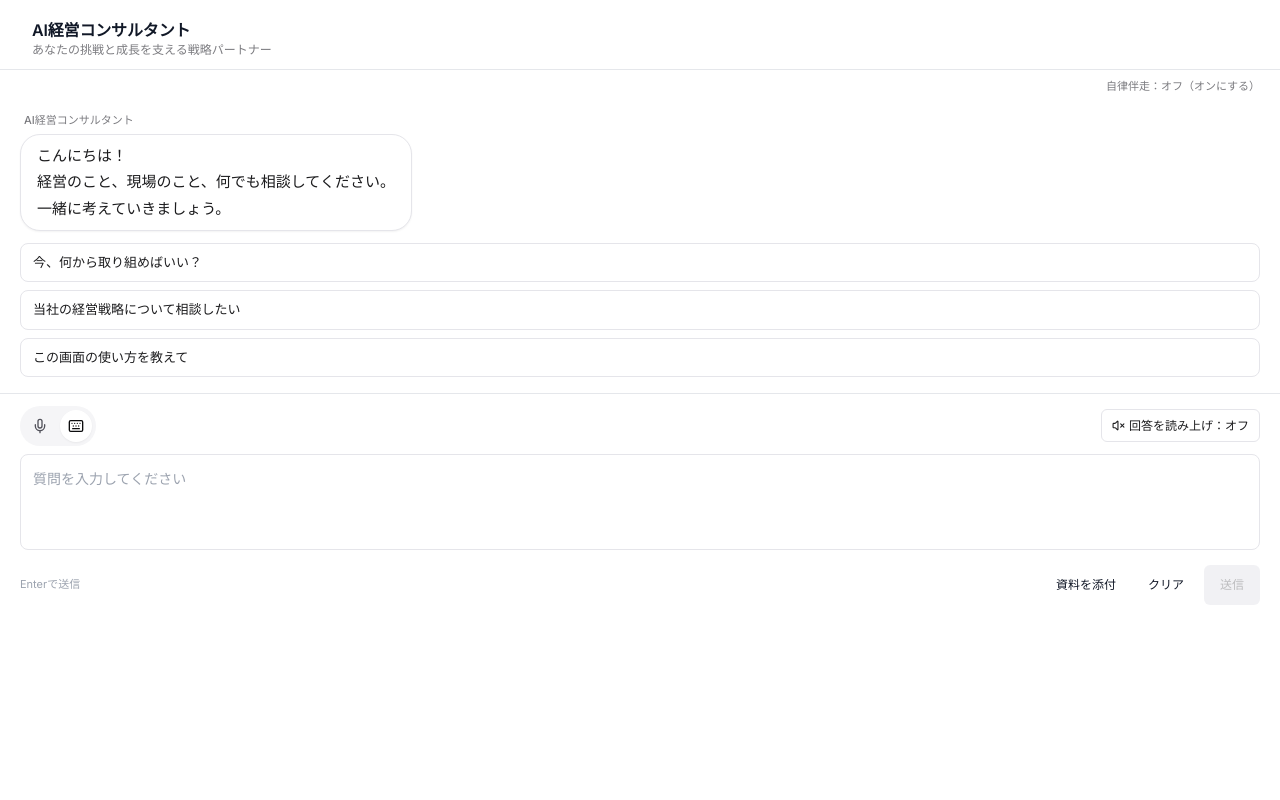
Test: 企業切替と送信ゲート › 企業切替中（画面は B、ストアは A）に送信しても API を呼ばず、案内と入力の保持を行う
Type "質問" into the text box at [640, 502], box top-left (20, 454), bottom-right (1260, 550)
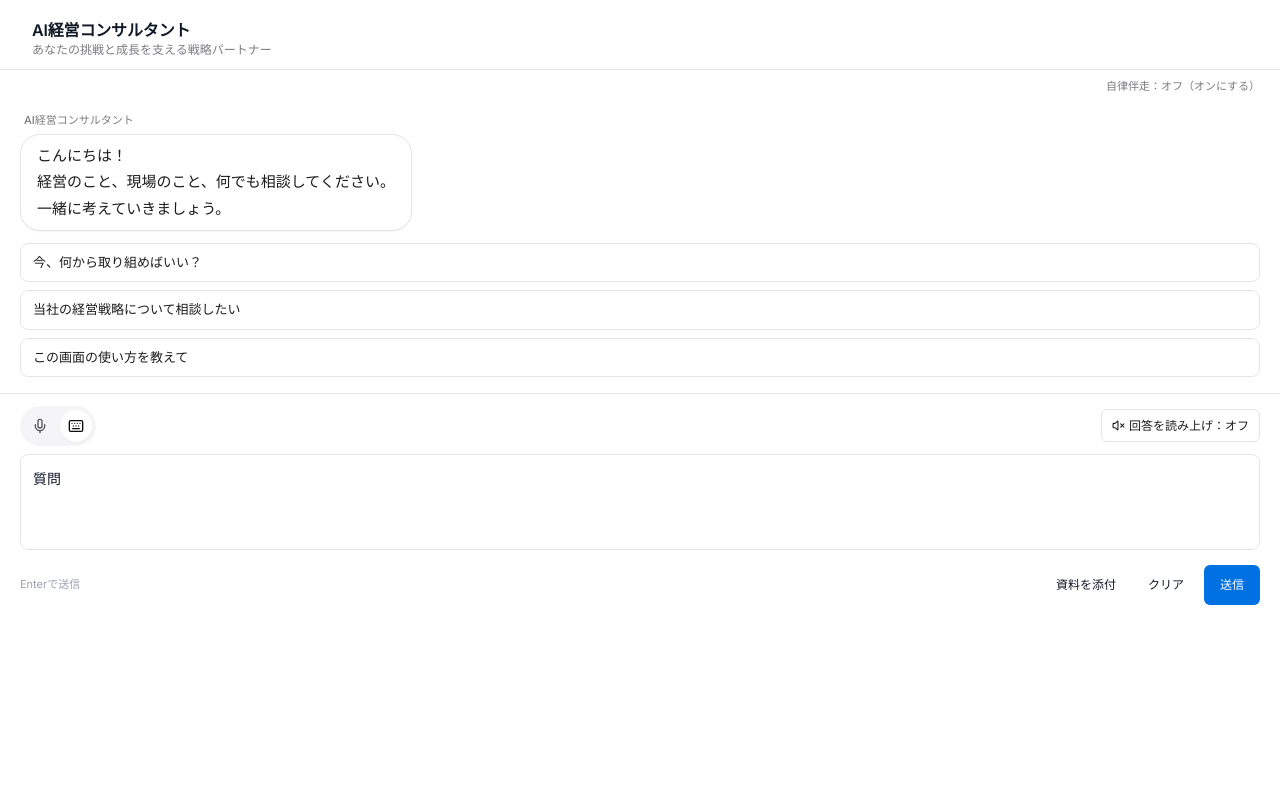
Result: the button "送信" is enabled
Click the button "送信" at [1232, 585], box top-left (1204, 565), bottom-right (1260, 605)
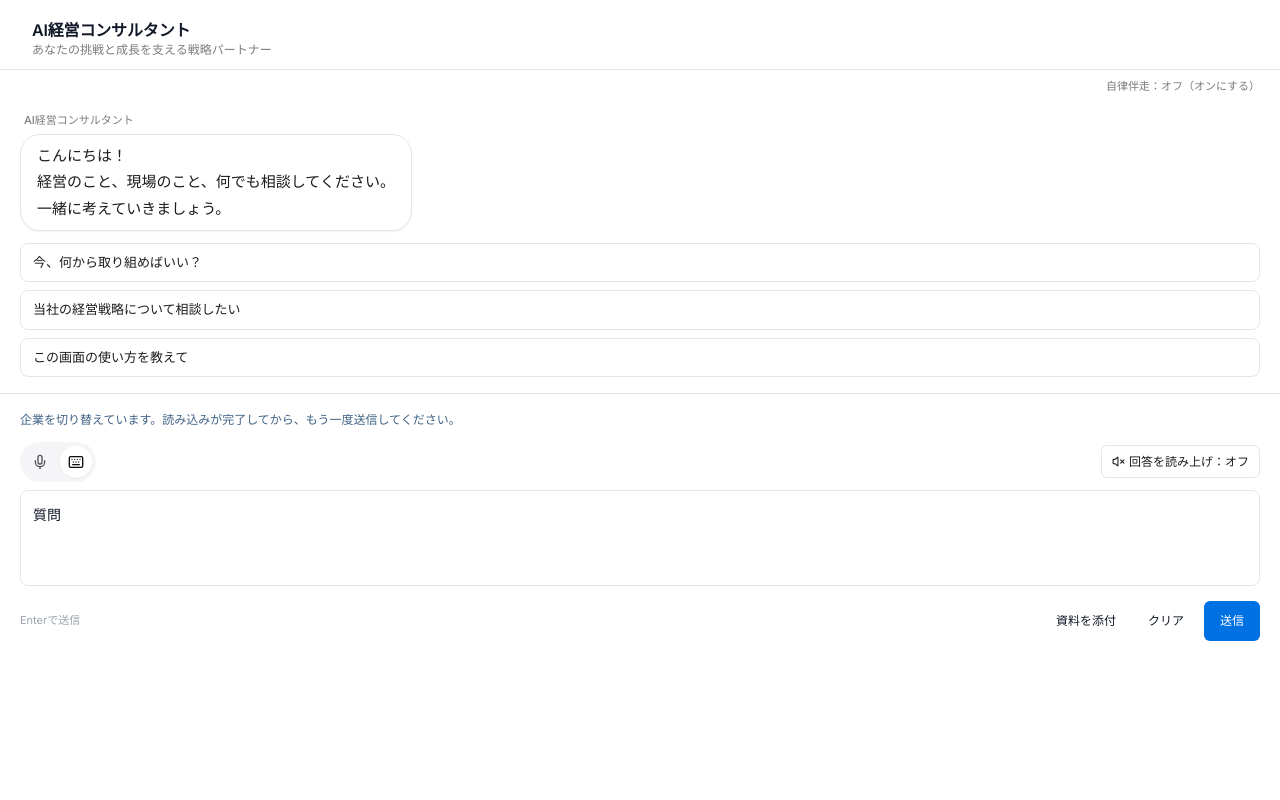
Result: the message shows "企業を切り替えています" at top-left (20, 412), bottom-right (461, 427)
